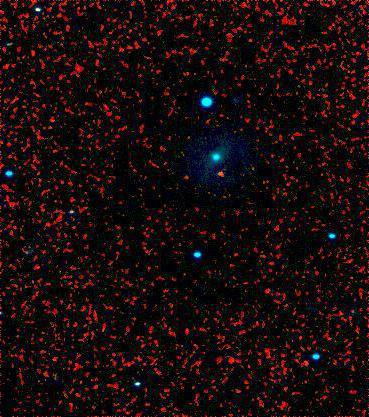star: (206, 160, 236, 190)
